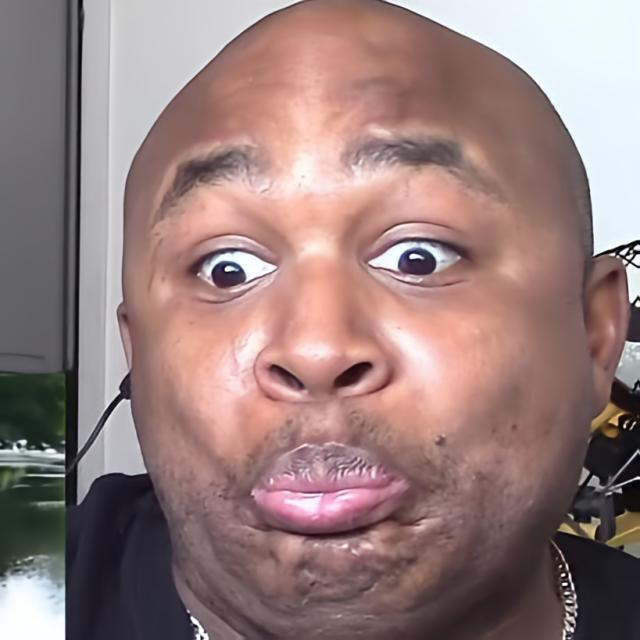Fear: (122, 0, 594, 640)
